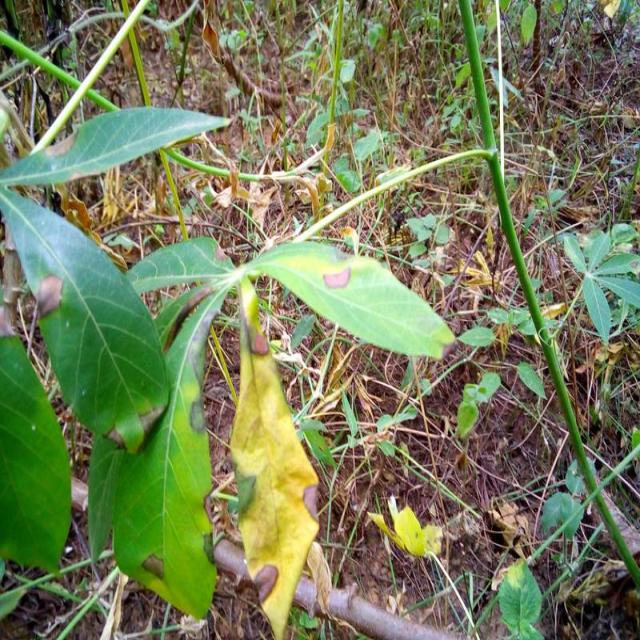cassava leaf: (104, 235, 453, 623), (0, 182, 170, 452), (110, 285, 220, 620), (228, 274, 320, 638), (246, 239, 455, 360), (0, 104, 231, 186), (0, 333, 72, 574)
